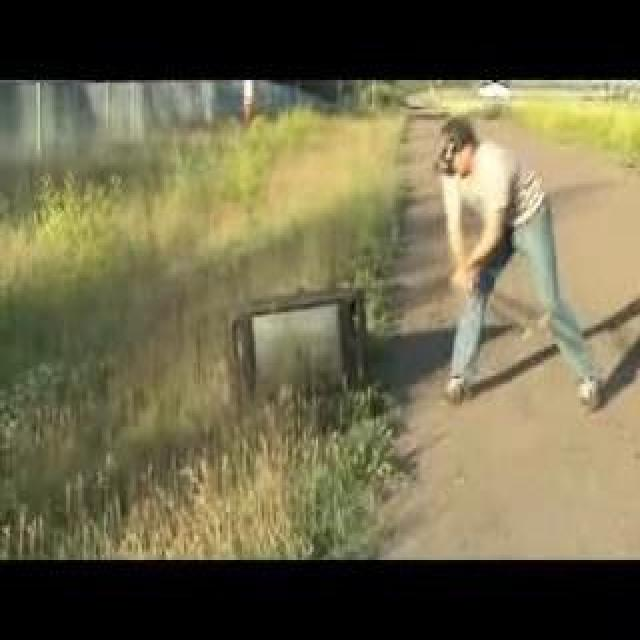fight: (210, 107, 640, 456)
